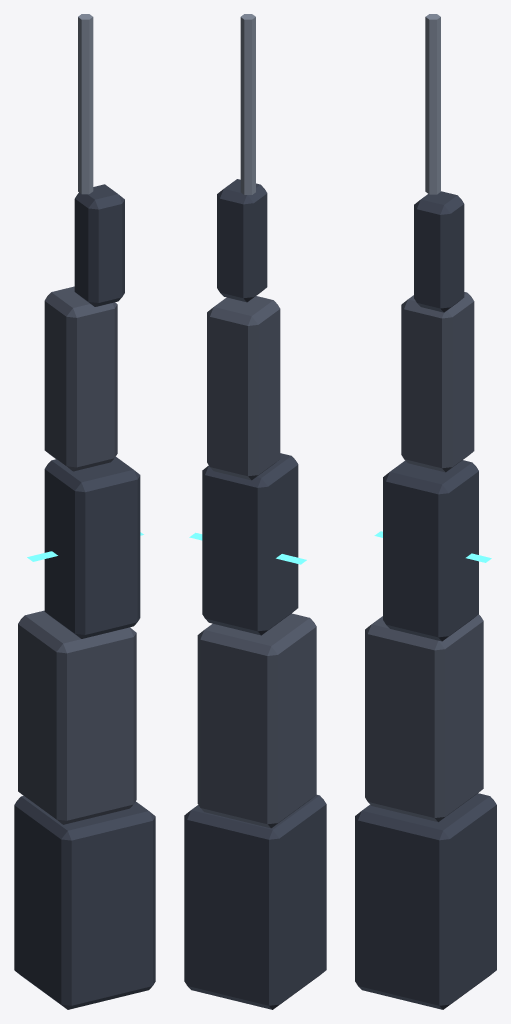
File: prop_tower.glb
3 renders of one model, left to right at view 1: azimuth 30°, elevation 25°; view 2: azimuth 150°, elevation 25°; view 3: azimuth 330°, elevation 25°, orthographic.
Parts seen in each view (by area): view 1: prop_tower; view 2: prop_tower; view 3: prop_tower.
Part boxes in pixels (bbox=[...]): prop_tower: bbox=[14, 14, 155, 1009]; prop_tower: bbox=[184, 14, 326, 1009]; prop_tower: bbox=[355, 14, 496, 1009].
Size of the model in its own units: 1 by 8.27 by 0.85.
